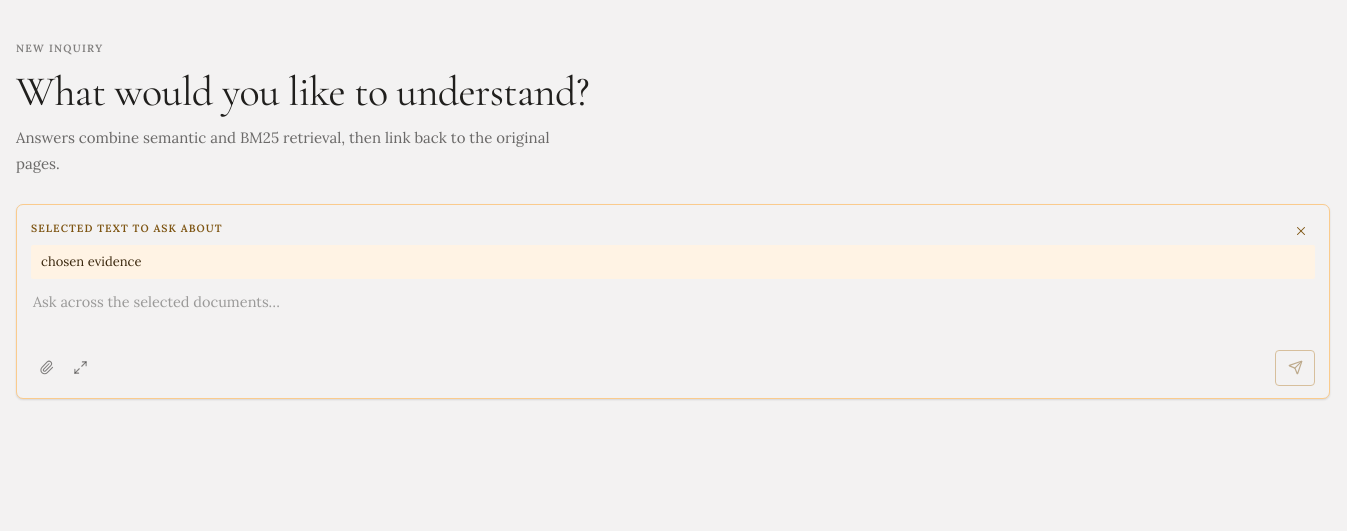
Test: ChatPane › creates a conversation, includes selected text, and renders the result
Type "What does it mean?" into the text box named "Ask a question" at (673, 313), box [31,287,1315,340]
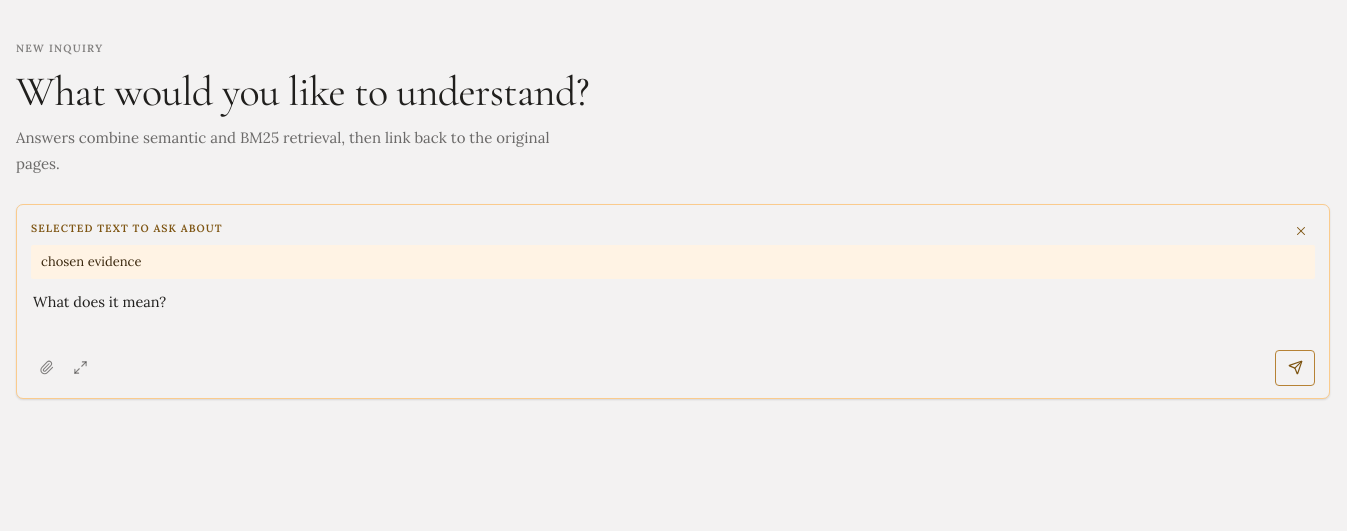
Click the button named "Ask" at (1295, 368), box [1275,350,1315,386]
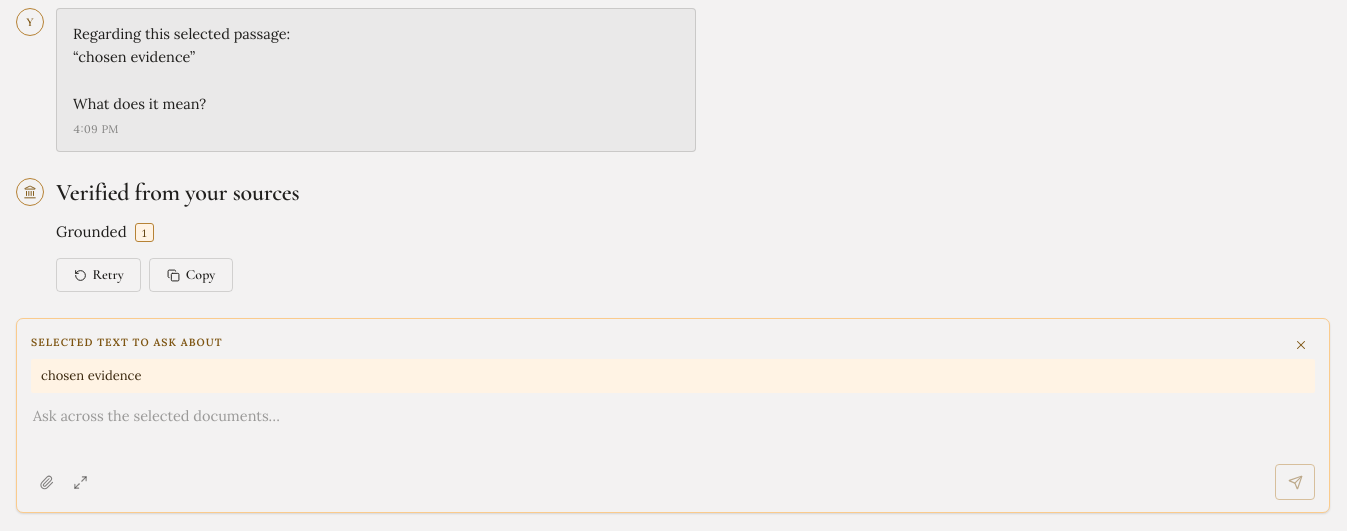
Result: the text "Grounded" is shown at [56,222,131,241]
